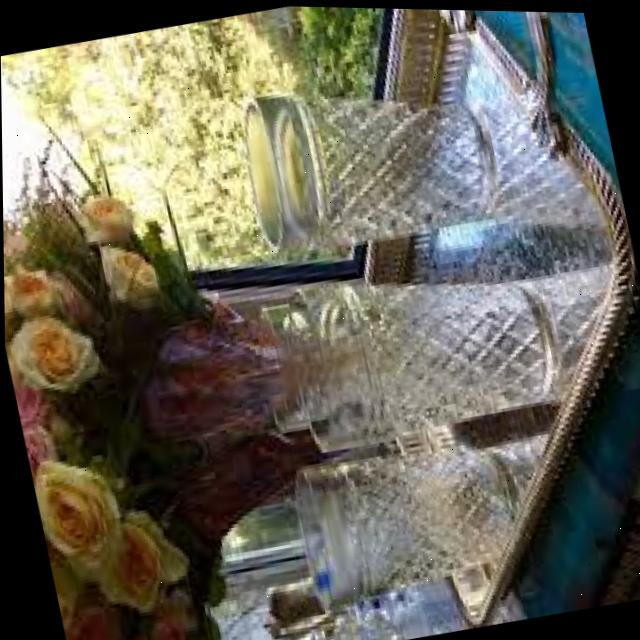Dry: (278, 239, 565, 458)
